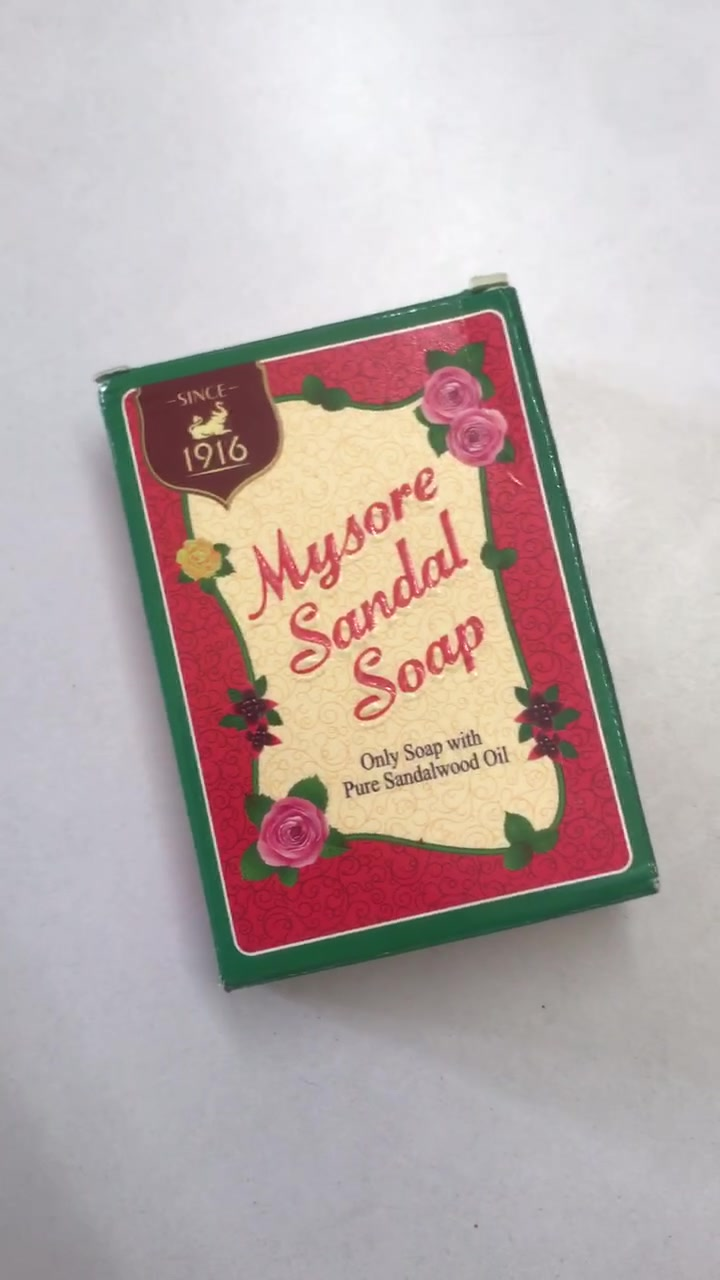mysore sandal soap: (96, 296, 655, 989)
